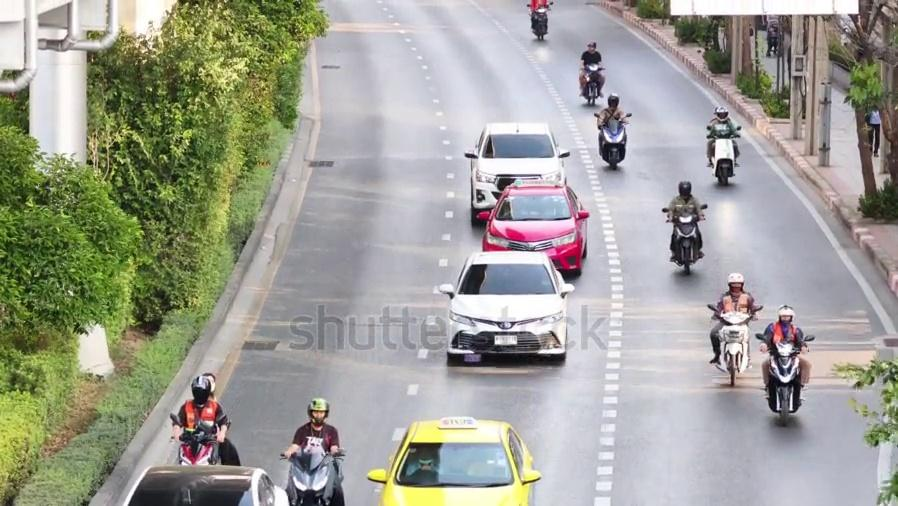person: (864, 104, 881, 156)
rider: (281, 396, 345, 505), (169, 372, 229, 465), (757, 304, 811, 399), (708, 272, 755, 368), (663, 180, 705, 261), (705, 105, 741, 167), (595, 93, 628, 155), (578, 41, 604, 97), (525, 0, 550, 45)
with_helmate: (301, 399, 334, 426), (721, 271, 746, 294), (189, 377, 211, 401), (772, 307, 798, 324), (670, 179, 694, 197), (710, 104, 733, 121), (606, 93, 622, 111), (584, 43, 597, 54)
